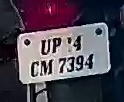1: (66, 36, 73, 55)
3: (66, 57, 76, 74)
4: (84, 54, 95, 72), (72, 36, 85, 51)
7: (58, 58, 66, 75)
9: (76, 55, 85, 72)
C: (29, 61, 40, 78)
M: (39, 59, 54, 76)
P: (52, 38, 65, 57)
U: (37, 39, 52, 56)
